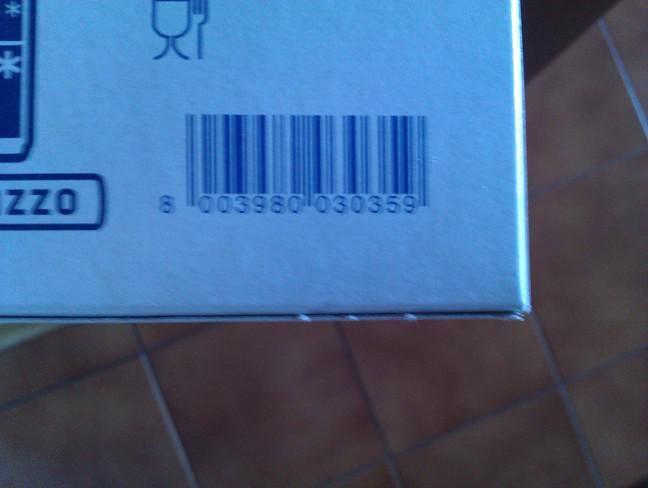Barkod: (149, 98, 444, 231)
